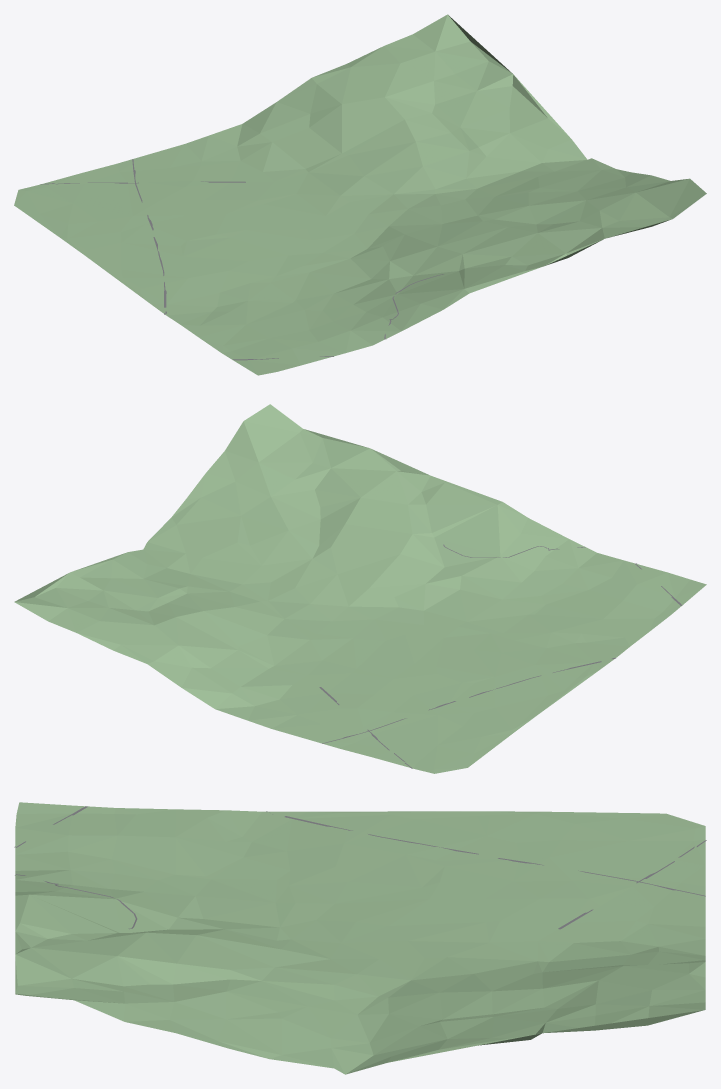
The model's file is terrain.glb.
3 renders of one model, top to bottom at view 1: azimuth 30°, elevation 25°; view 2: azimuth 150°, elevation 25°; view 3: azimuth 270°, elevation 25°, orthographic. The views are drawn at different scales.
Parts seen in each view (by area): view 1: Terreno, Vias; view 2: Terreno, Vias; view 3: Terreno, Vias.
Boxes of the visible parts, box(x1,y1,x2,y2) form: Terreno: box(14, 14, 706, 375); Vias: box(40, 159, 443, 360); Terreno: box(14, 404, 706, 773); Vias: box(319, 544, 682, 768); Terreno: box(15, 802, 705, 1074); Vias: box(14, 806, 706, 929).
Size of the model in its own units: 22.24 by 3.87 by 22.21.
